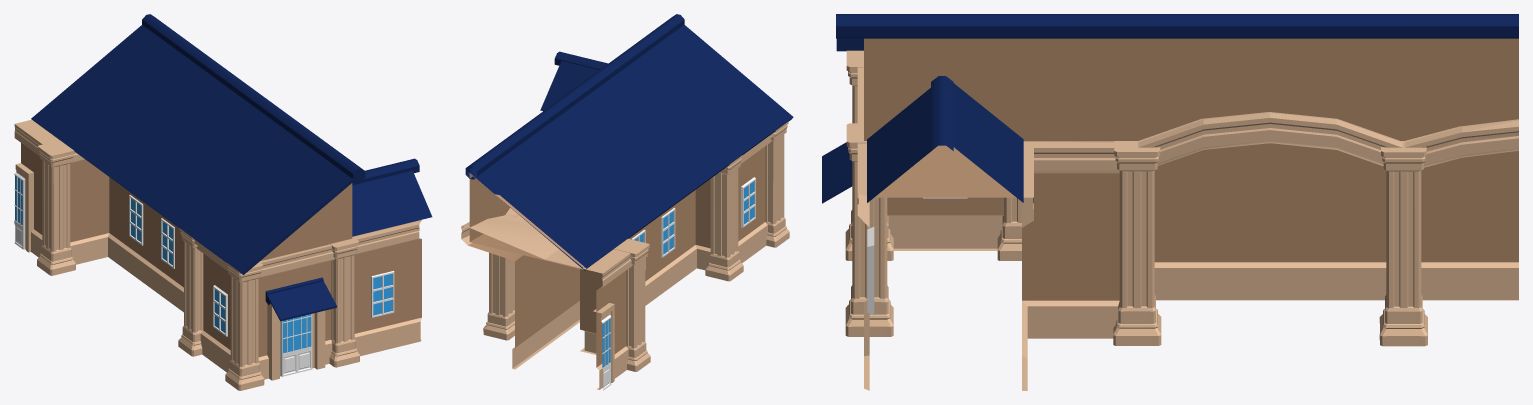
File: 2 6TestUv.fbx
3 renders of one model, left to right at view 1: azimuth 30°, elevation 25°; view 2: azimuth 150°, elevation 25°; view 3: azimuth 270°, elevation 25°, orthographic. The views are drawn at different scales.
Parts seen in each view (by area): view 1: Object007; view 2: Object007; view 3: Object007.
Part boxes in pixels (left/top/right/bottom): Object007: left=14, top=14, right=432, bottom=390; Object007: left=461, top=14, right=793, bottom=390; Object007: left=822, top=14, right=1518, bottom=390.
Bounding box in the file's own units: 8.61 × 7.02 × 13.95.
